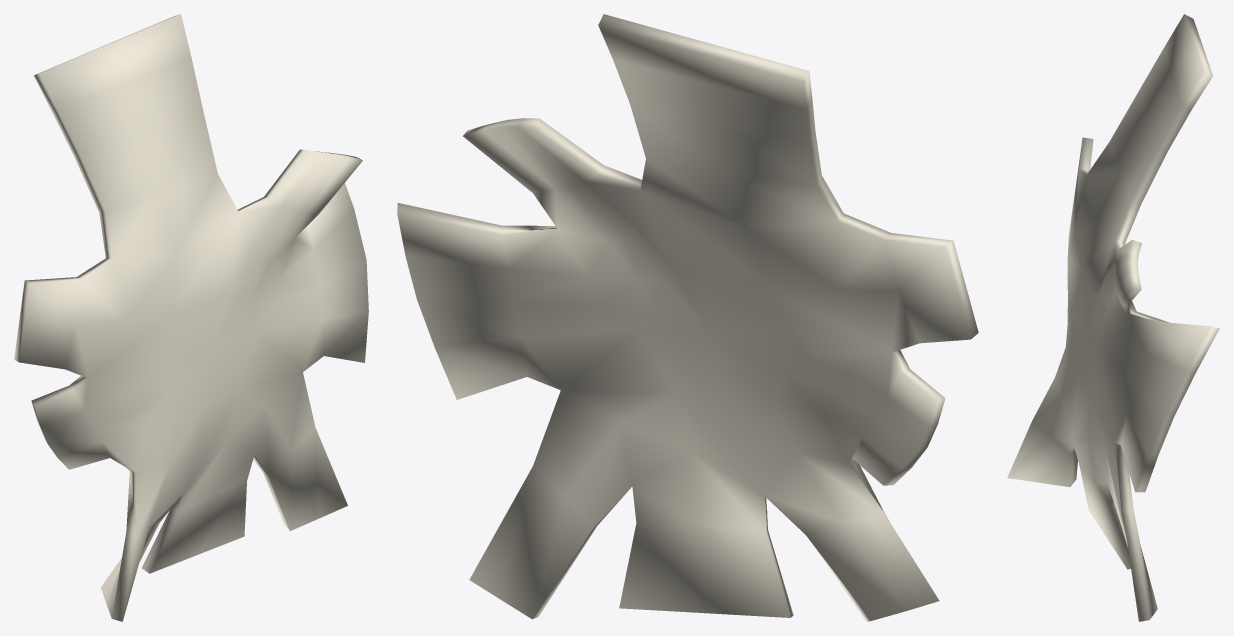
3 renders of one model, left to right at view 1: azimuth 30°, elevation 25°; view 2: azimuth 150°, elevation 25°; view 3: azimuth 270°, elevation 25°, orthographic. The views are drawn at different scales.
Parts seen in each view (by area): view 1: ZA_ba2ec456cea9b328; view 2: ZA_ba2ec456cea9b328; view 3: ZA_ba2ec456cea9b328.
Boxes of the visible parts, left/top/right/bottom form: ZA_ba2ec456cea9b328: left=14, top=14, right=368, bottom=621; ZA_ba2ec456cea9b328: left=397, top=14, right=978, bottom=621; ZA_ba2ec456cea9b328: left=1007, top=14, right=1219, bottom=621.
Size of the model in its own units: 0.0201 by 0.0251 by 0.00966.
